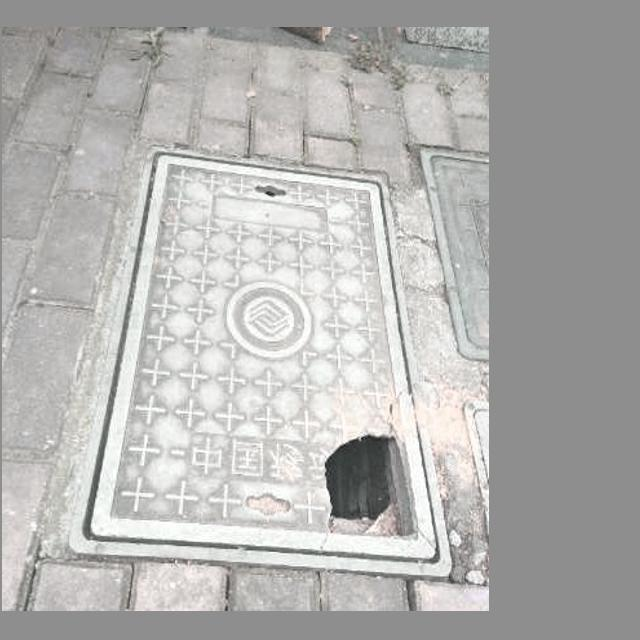broke: (66, 142, 453, 577)
